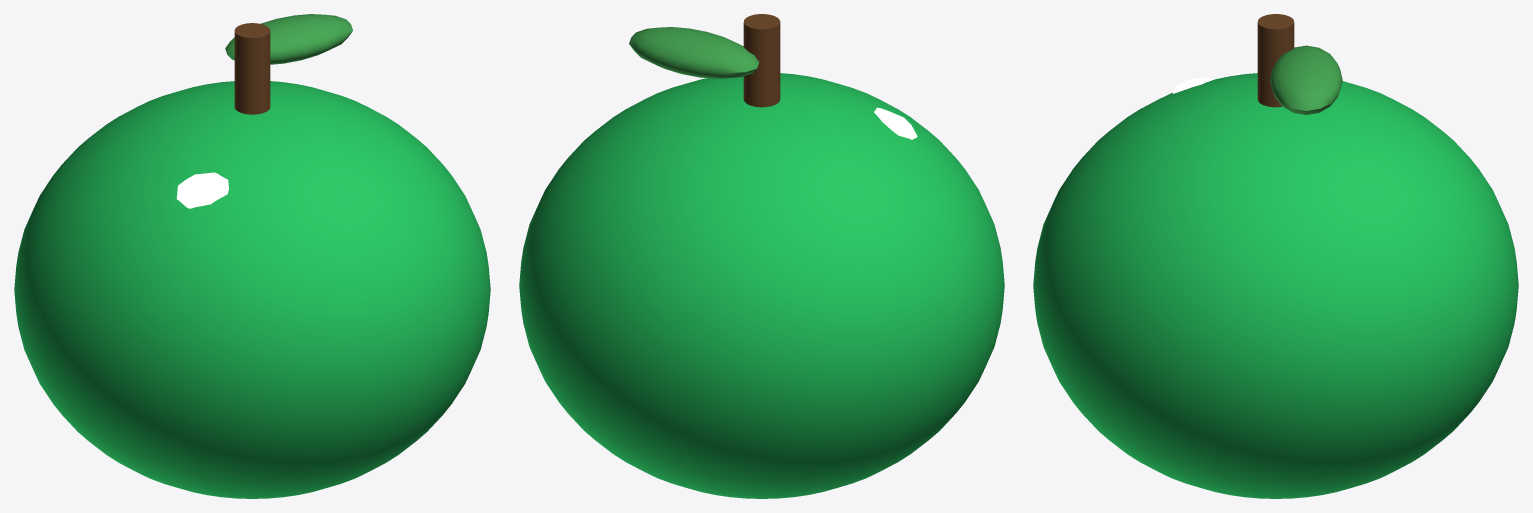
The model's file is jablko_zelene.glb.
The picture shows the model from 3 angles, left to right: view 1: azimuth 30°, elevation 25°; view 2: azimuth 150°, elevation 25°; view 3: azimuth 270°, elevation 25°; orthographic projection.
Parts seen in each view (by area): view 1: jablko_zelene_m, jablko_zelene_list, jablko_zelene_stopka, jablko_zelene_lesk; view 2: jablko_zelene_m, jablko_zelene_list, jablko_zelene_stopka, jablko_zelene_lesk; view 3: jablko_zelene_m, jablko_zelene_list, jablko_zelene_stopka.
Boxes of the visible parts, bbox=[...] form: jablko_zelene_m: bbox=[14, 81, 490, 498]; jablko_zelene_list: bbox=[225, 14, 352, 64]; jablko_zelene_stopka: bbox=[234, 23, 270, 114]; jablko_zelene_lesk: bbox=[176, 172, 228, 208]; jablko_zelene_m: bbox=[519, 73, 1004, 498]; jablko_zelene_list: bbox=[629, 27, 759, 78]; jablko_zelene_stopka: bbox=[743, 14, 780, 107]; jablko_zelene_lesk: bbox=[874, 107, 917, 139]; jablko_zelene_m: bbox=[1033, 73, 1518, 498]; jablko_zelene_list: bbox=[1270, 45, 1342, 114]; jablko_zelene_stopka: bbox=[1257, 14, 1294, 107].
Bounding box in the file's own units: 0.8 × 0.82 × 0.8.
